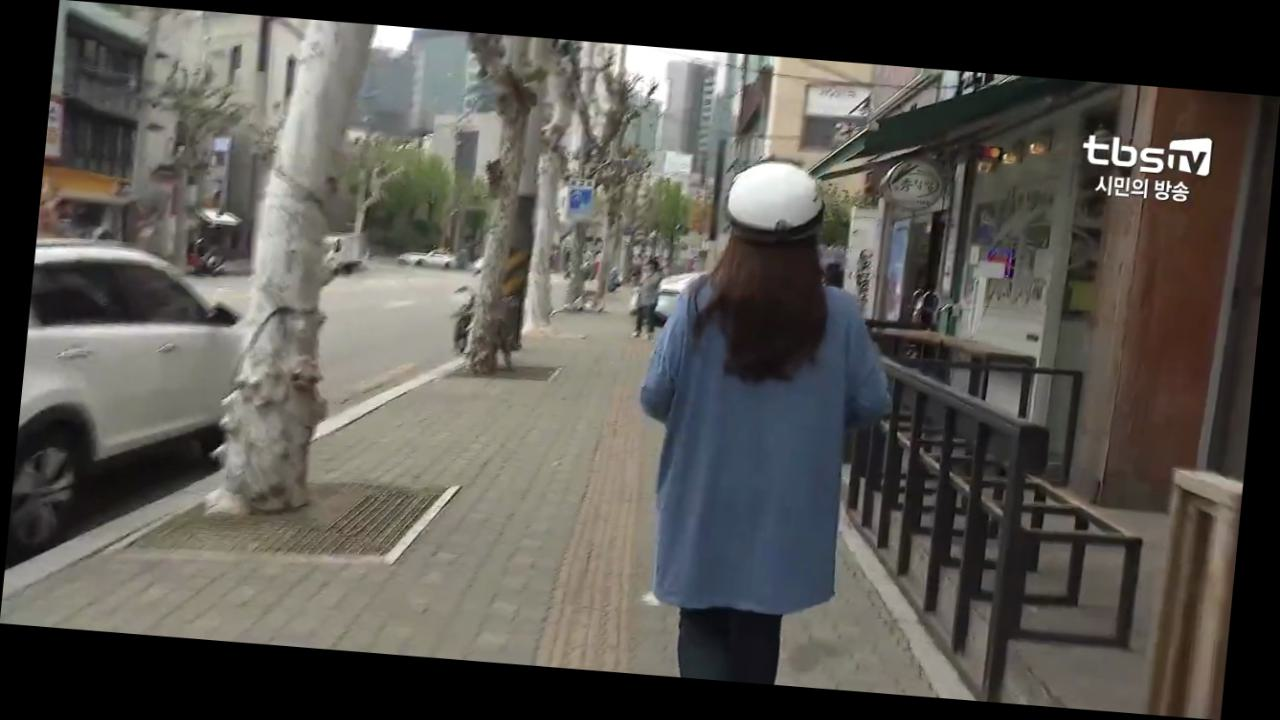helmet: (610, 148, 922, 693)
